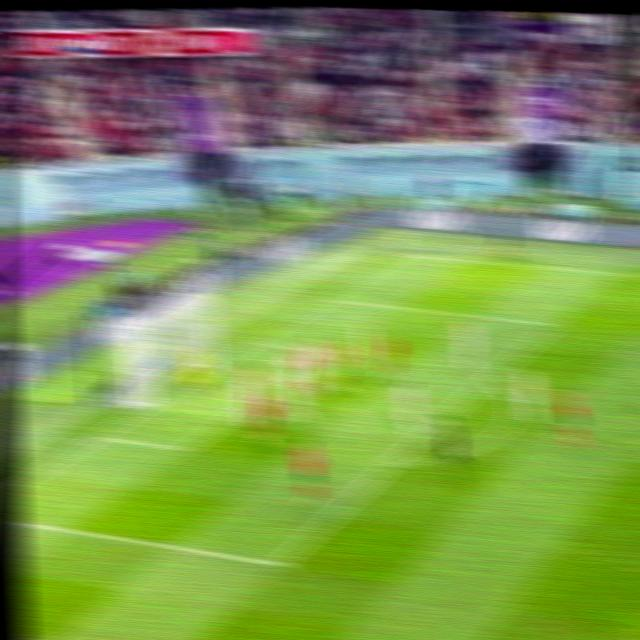bigarea_bottom_inner: (268, 556, 291, 574)
bigarea_top_inner: (541, 317, 563, 334)
bigarea_top_outter: (317, 293, 337, 305)
bottom_arc_area_intersection: (381, 456, 402, 475)
corner: (394, 250, 415, 259)
smallarea_bottom_inner: (175, 441, 197, 456)
smallarea_bottom_outter: (86, 431, 107, 443)
smallarea_top_inner: (319, 346, 338, 357)
smallarea_top_outter: (247, 337, 264, 347)
top_arc_area_intersection: (476, 374, 497, 391)
